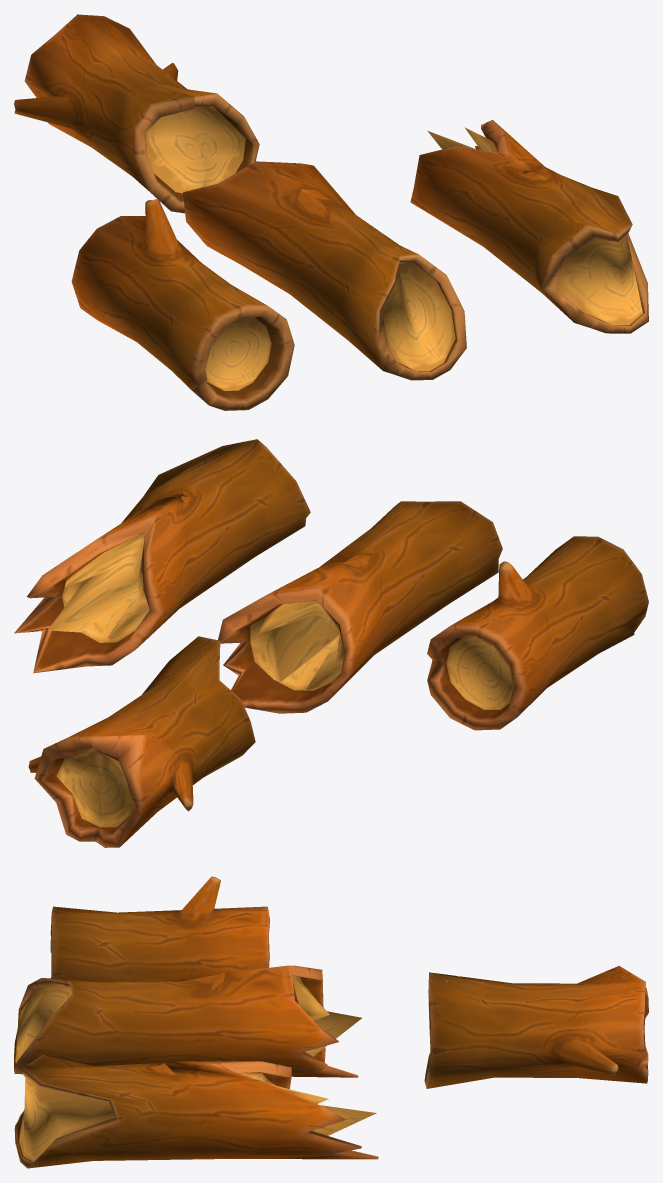
Rendered from Logs.fbx.
The picture shows the model from 3 angles, top to bottom: view 1: azimuth 30°, elevation 25°; view 2: azimuth 150°, elevation 25°; view 3: azimuth 270°, elevation 25°; orthographic projection. The views are drawn at different scales.
Visible parts, largest first — view 1: log_low.001, log_low.003, log_low.002, log_low; view 2: log_low.003, log_low.001, log_low, log_low.002; view 3: log_low.003, log_low.001, log_low.002, log_low.
Part boxes in pixels (left/top/right/bottom): log_low.001: left=183, top=161, right=466, bottom=380; log_low.003: left=410, top=120, right=648, bottom=333; log_low.002: left=14, top=14, right=259, bottom=213; log_low: left=71, top=199, right=294, bottom=410; log_low.003: left=14, top=439, right=310, bottom=673; log_low.001: left=218, top=501, right=502, bottom=713; log_low: left=427, top=536, right=648, bottom=730; log_low.002: left=28, top=636, right=255, bottom=847; log_low.003: left=14, top=1055, right=378, bottom=1168; log_low.001: left=14, top=965, right=361, bottom=1077; log_low.002: left=424, top=966, right=648, bottom=1088; log_low: left=50, top=876, right=269, bottom=981.
Size of the model in its own units: 896 by 274 by 1203.
